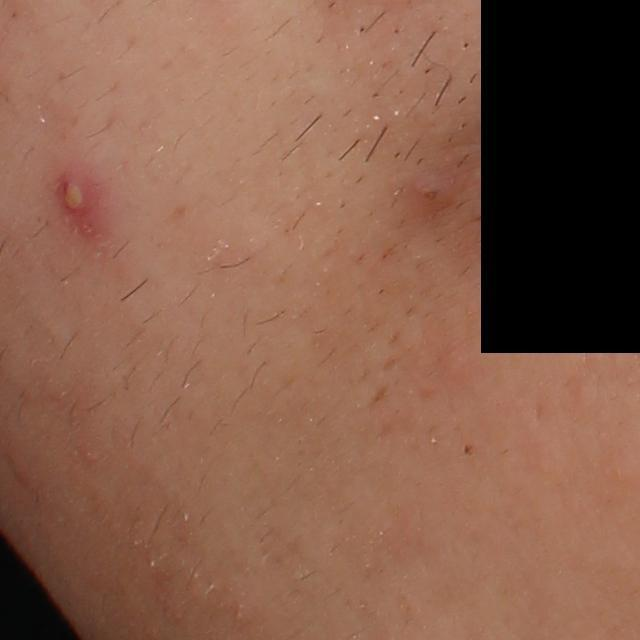papule: (399, 167, 456, 216)
pustule: (52, 164, 98, 222)
